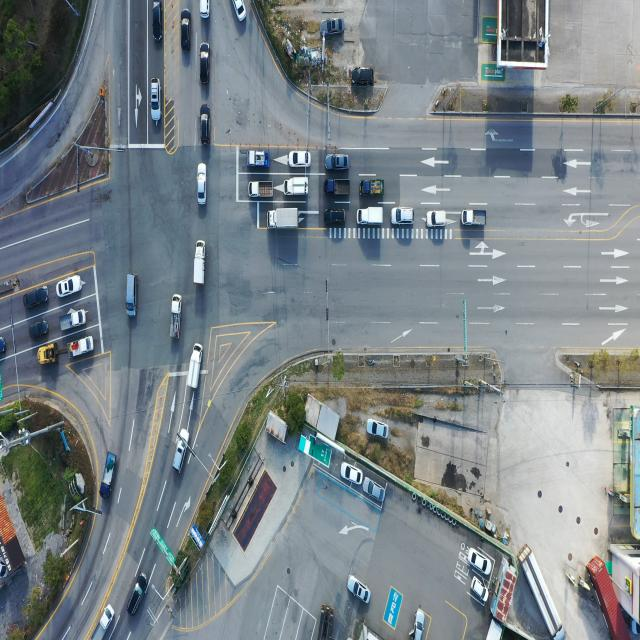car: (128, 571, 150, 617), (173, 428, 190, 473), (348, 575, 371, 606), (57, 274, 83, 300), (24, 286, 48, 309), (364, 479, 386, 504), (127, 274, 139, 319), (470, 577, 488, 605), (350, 66, 375, 86), (468, 551, 488, 576), (366, 418, 388, 440), (149, 78, 160, 122), (342, 462, 363, 485), (320, 18, 345, 37), (198, 166, 209, 208), (152, 1, 163, 43), (392, 207, 416, 226), (411, 610, 426, 640), (325, 155, 349, 173), (200, 47, 211, 86), (201, 105, 211, 146), (326, 209, 348, 227), (290, 150, 312, 167), (231, 0, 247, 23), (428, 210, 448, 227), (30, 320, 50, 337), (181, 15, 190, 52), (198, 0, 210, 18), (0, 338, 7, 359)
medium_truck: (520, 543, 566, 637), (267, 208, 300, 232), (320, 605, 336, 640)
small_truck: (100, 451, 118, 498), (92, 605, 115, 640), (186, 341, 202, 391), (59, 308, 86, 333), (70, 336, 96, 360), (195, 241, 207, 288), (358, 206, 384, 226), (250, 182, 276, 202), (283, 176, 308, 196), (171, 294, 182, 339), (248, 148, 272, 168), (360, 178, 385, 197), (462, 209, 488, 227), (324, 178, 350, 196)
